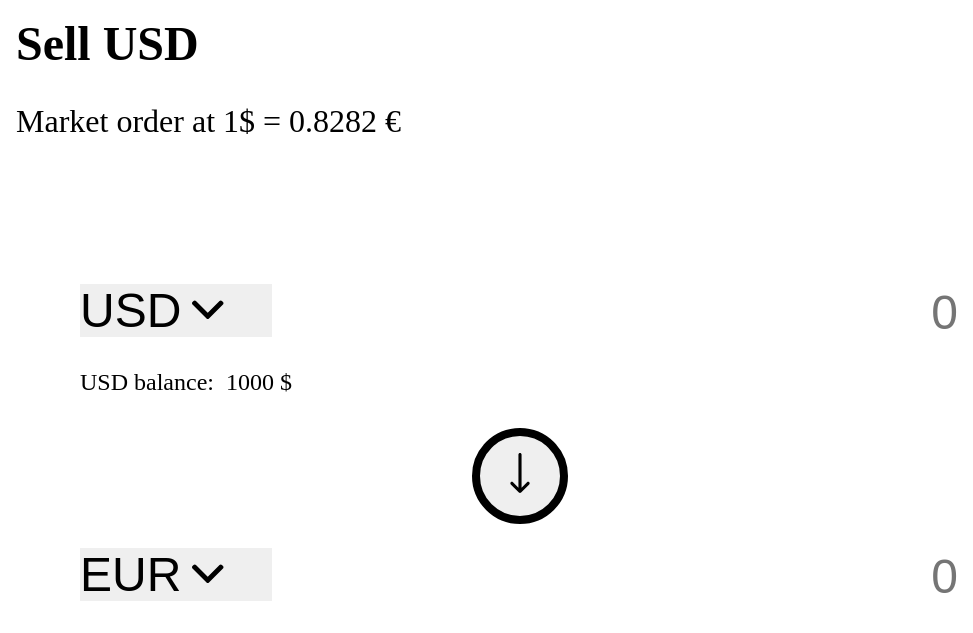
Test: Widget › should render title, rates and signs for sell and buy transaction
Check: the heading "Sell USD" is shown, box [16,17,199,70]
Check: the text "market order 1$ = 0.8282 €" is shown, box [16,103,401,139]
What coordinates should you click on to do the following:
click the button with test id "swap-transaction"
I would click on:
 (520, 476)
Its box is [472,428,568,524].
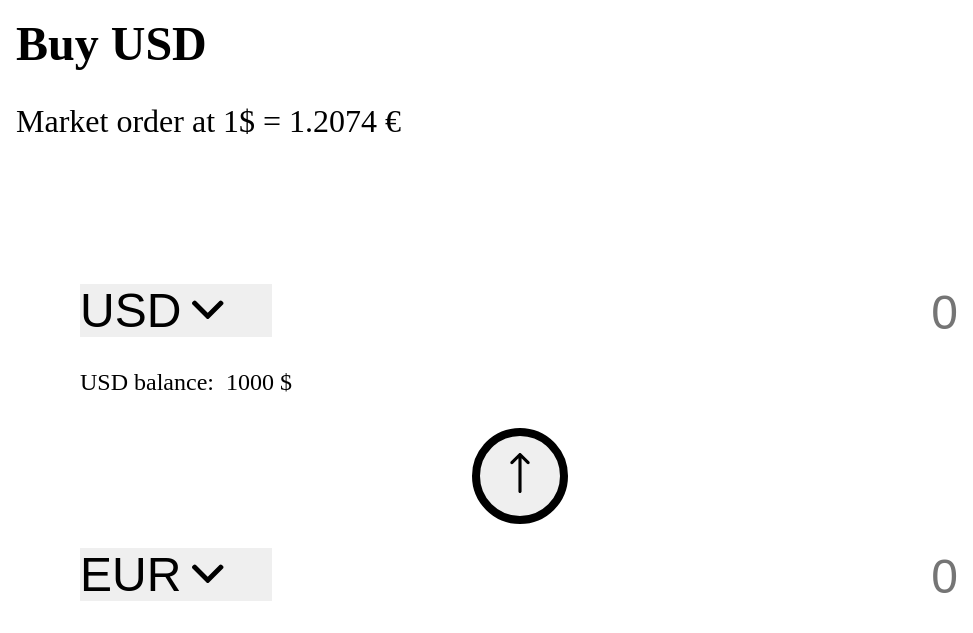
Check: the text "market order 1$ = 1.2074 €" is shown, box [16,103,401,139]
Check: the heading "Buy USD" is shown, box [16,17,207,70]
